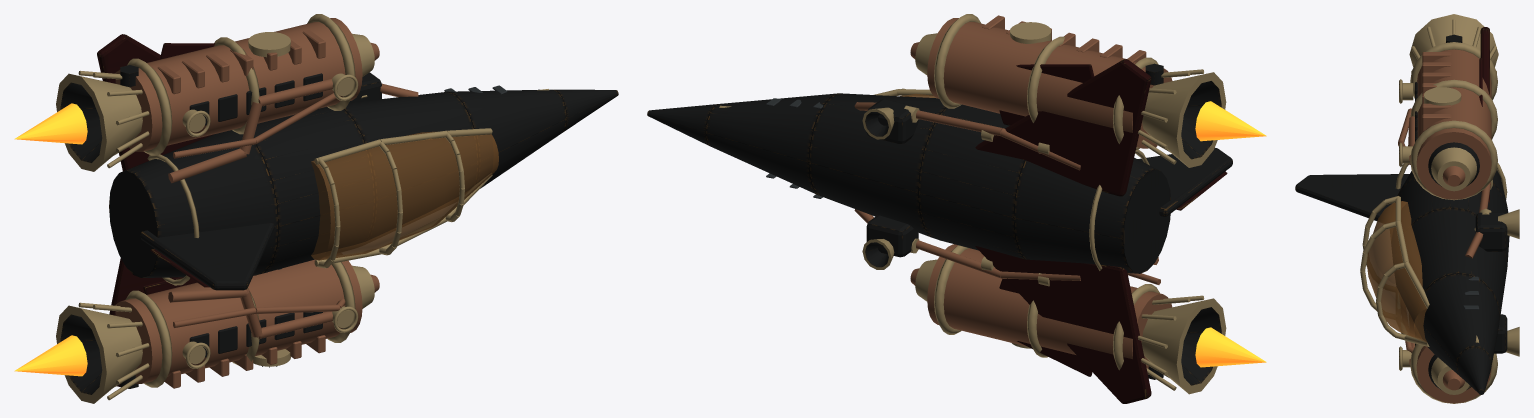
The model's file is rocket-high.glb.
3 renders of one model, left to right at view 1: azimuth 30°, elevation 25°; view 2: azimuth 150°, elevation 25°; view 3: azimuth 270°, elevation 25°, orthographic. The views are drawn at different scales.
Parts seen in each view (by area): view 1: rocket-root / Riveted iron, rocket-root / Copper feed lines, rocket-root / Machined brass, rocket-root / Amber glazing, rocket-root / Burgundy enamel, Engine exhaust / Furnace glow, Engine exhaust.001 / Furnace glow; view 2: rocket-root / Riveted iron, rocket-root / Copper feed lines, rocket-root / Burgundy enamel, rocket-root / Machined brass, Engine exhaust / Furnace glow, Engine exhaust.001 / Furnace glow; view 3: rocket-root / Riveted iron, rocket-root / Machined brass, rocket-root / Copper feed lines, rocket-root / Amber glazing, rocket-root / Burgundy enamel.
Part boxes in pixels (bbox=[...]): rocket-root / Riveted iron: bbox=[60, 65, 618, 394]; rocket-root / Copper feed lines: bbox=[115, 18, 418, 388]; rocket-root / Machined brass: bbox=[56, 14, 548, 403]; rocket-root / Amber glazing: bbox=[311, 131, 498, 260]; rocket-root / Burgundy enamel: bbox=[97, 34, 215, 387]; Engine exhaust / Furnace glow: bbox=[14, 335, 87, 376]; Engine exhaust.001 / Furnace glow: bbox=[14, 103, 87, 144]; rocket-root / Riveted iron: bbox=[647, 63, 1232, 385]; rocket-root / Copper feed lines: bbox=[854, 15, 1172, 374]; rocket-root / Burgundy enamel: bbox=[975, 59, 1227, 403]; rocket-root / Machined brass: bbox=[719, 14, 1226, 394]; Engine exhaust / Furnace glow: bbox=[1195, 327, 1266, 367]; Engine exhaust.001 / Furnace glow: bbox=[1195, 101, 1266, 141]; rocket-root / Riveted iron: bbox=[1295, 34, 1509, 394]; rocket-root / Machined brass: bbox=[1360, 14, 1519, 403]; rocket-root / Copper feed lines: bbox=[1398, 42, 1491, 403]; rocket-root / Amber glazing: bbox=[1366, 201, 1427, 342]; rocket-root / Burgundy enamel: bbox=[1479, 27, 1489, 202].
Bounding box in the file's own units: 1.7 × 0.9277 × 0.6102.
Materials: 8 (2 with a texture image).
